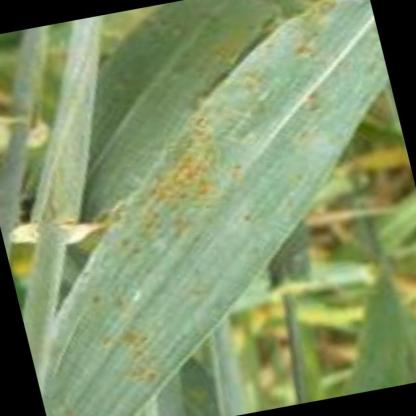Wheat Brown-rust: (297, 20, 343, 130), (111, 317, 158, 384), (169, 167, 217, 212), (191, 124, 232, 166), (131, 206, 164, 256), (243, 64, 269, 107), (238, 204, 258, 234), (216, 36, 235, 62)
